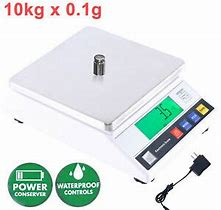Industrial Scale: (6, 25, 218, 171)
